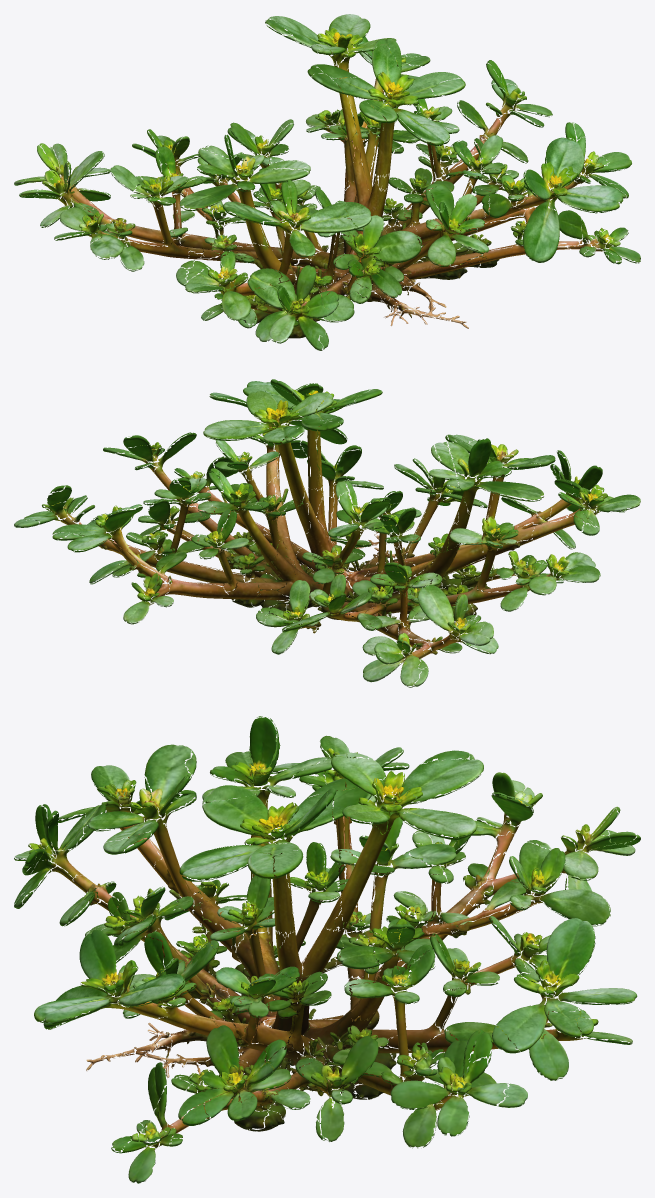
File: rajla.glb
The picture shows the model from 3 angles, top to bottom: view 1: azimuth 30°, elevation 25°; view 2: azimuth 150°, elevation 25°; view 3: azimuth 270°, elevation 25°; orthographic projection. The views are drawn at different scales.
Visible parts, largest first — view 1: tripo_node_2642c97e-7033-4173-8408-502c37902479; view 2: tripo_node_2642c97e-7033-4173-8408-502c37902479; view 3: tripo_node_2642c97e-7033-4173-8408-502c37902479.
Boxes of the visible parts, box(x1,y1,x2,y2) form: tripo_node_2642c97e-7033-4173-8408-502c37902479: box(14, 14, 640, 350); tripo_node_2642c97e-7033-4173-8408-502c37902479: box(14, 379, 640, 687); tripo_node_2642c97e-7033-4173-8408-502c37902479: box(14, 716, 640, 1183).
Size of the model in its own units: 0.9801 by 0.3895 by 0.7492.
1 material, 1 textured.
